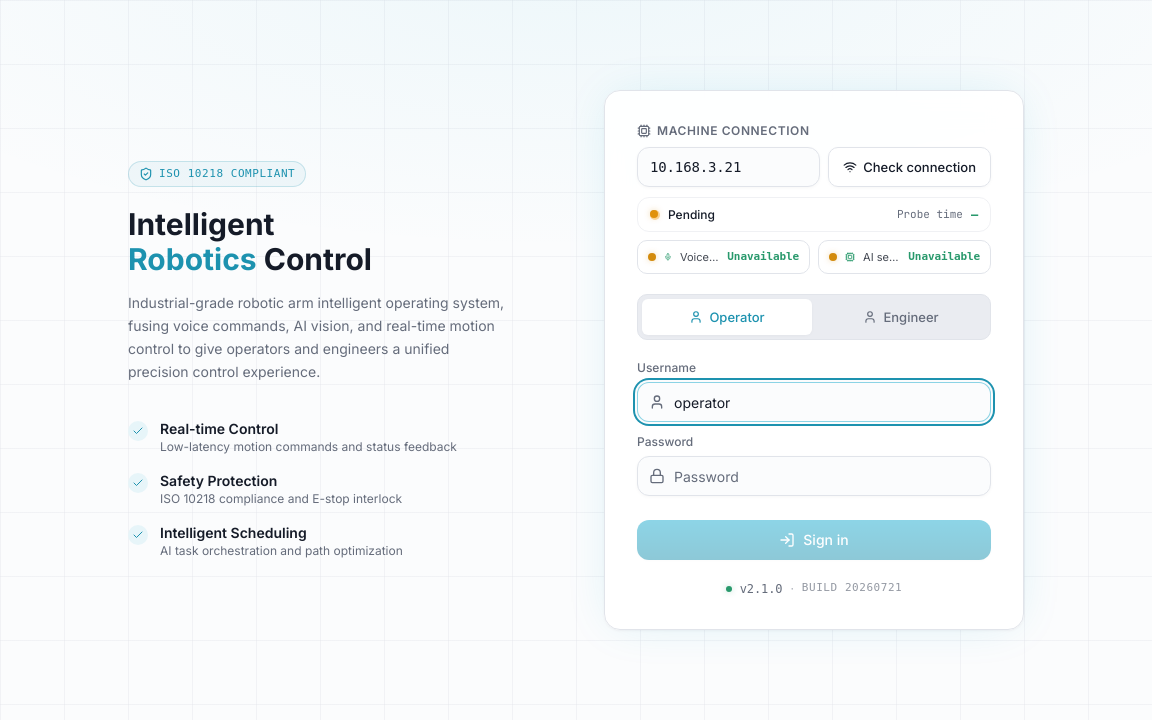
Test: LoginPage › switching tab selects that role's default account
The width and height of the screenshot is (1152, 720).
Replace the text in the field with placeholder "Username" with "abc" at (814, 402), box [637,382,991,422]
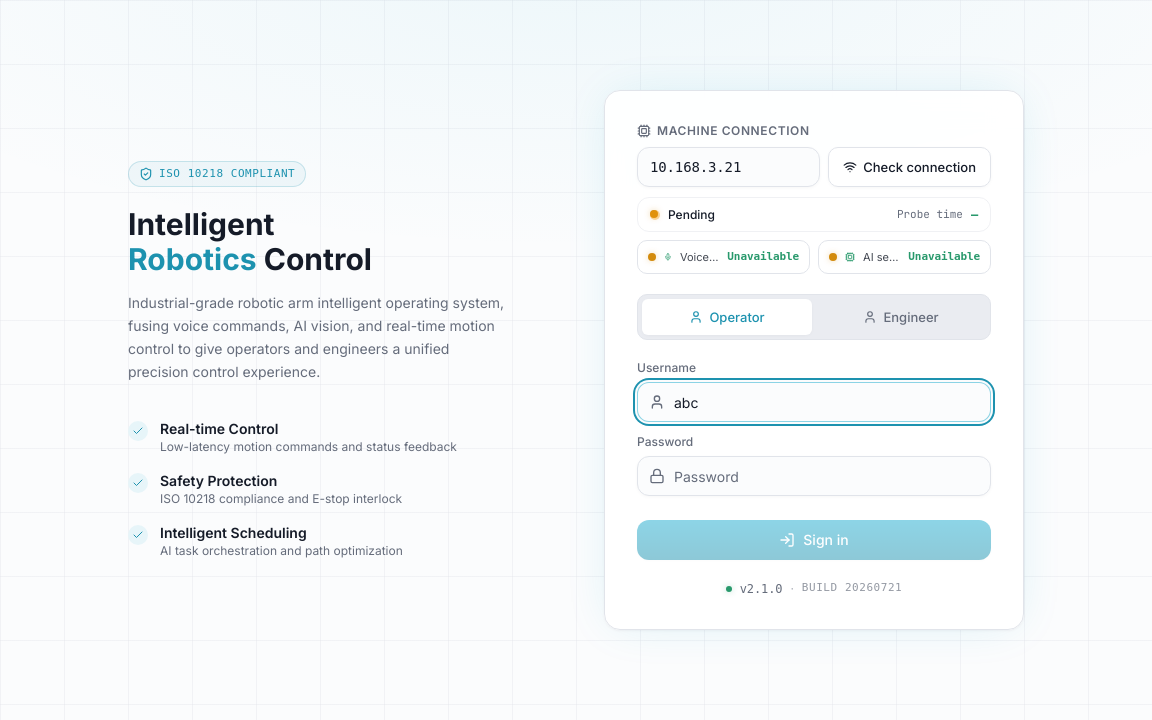
Click the tab "Engineer" at (901, 317), box [816,299,986,335]
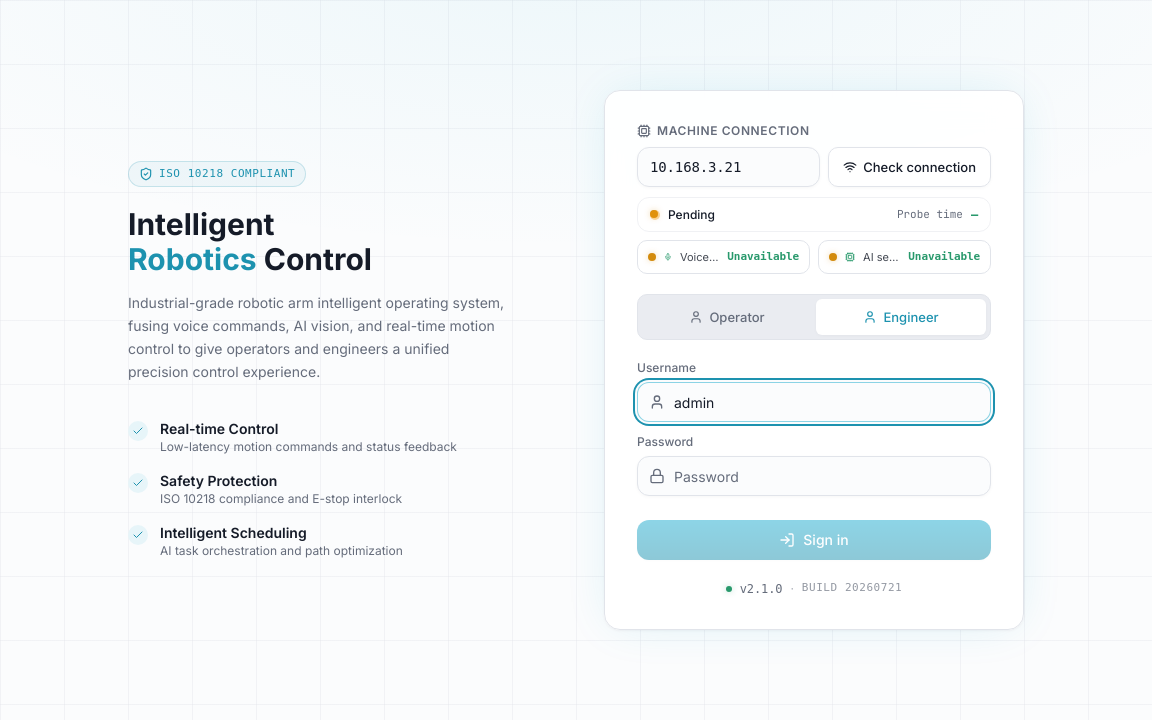
Now the field with placeholder "Username" holds "admin", box [637,382,991,422]
